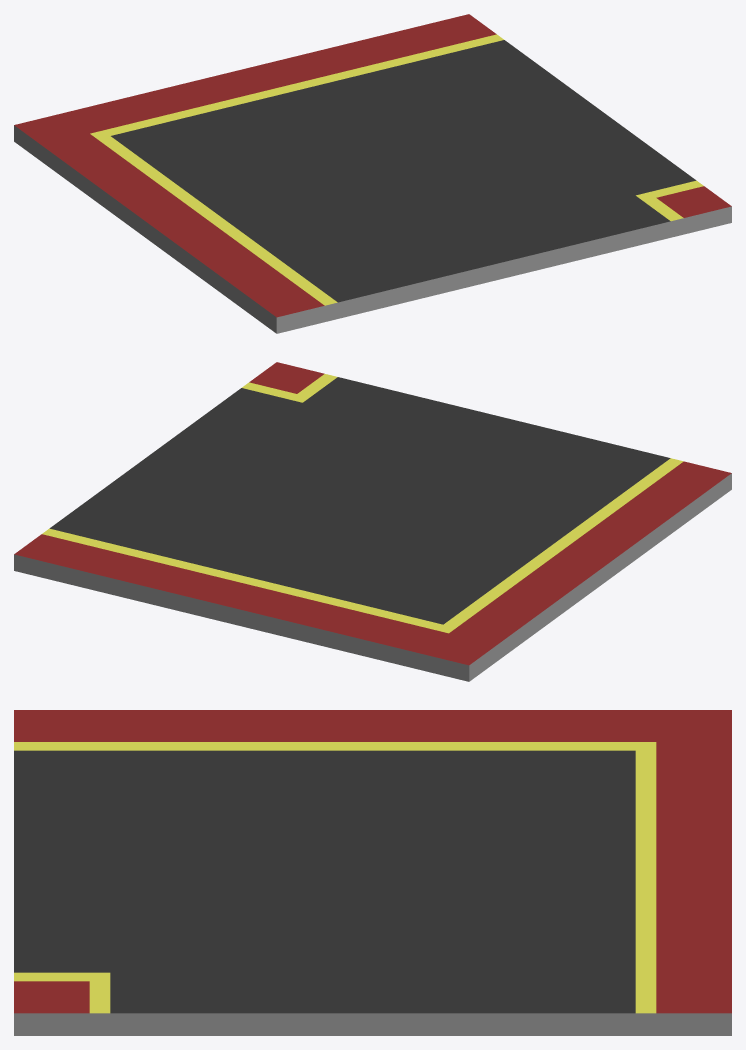
The model's file is Road2.fbx.
3 views of the same model, one above another, from view 1: azimuth 30°, elevation 25°; view 2: azimuth 150°, elevation 25°; view 3: azimuth 270°, elevation 25° (orthographic). The views are drawn at different scales.
Visible parts, largest first — view 1: pCube36; view 2: pCube36; view 3: pCube36.
Boxes of the visible parts, x1,y1,x2,y2 form: pCube36: (14,14,731,333); pCube36: (14,362,731,681); pCube36: (14,710,731,1035).
Size of the model in its own units: 100 by 3.46 by 100.
